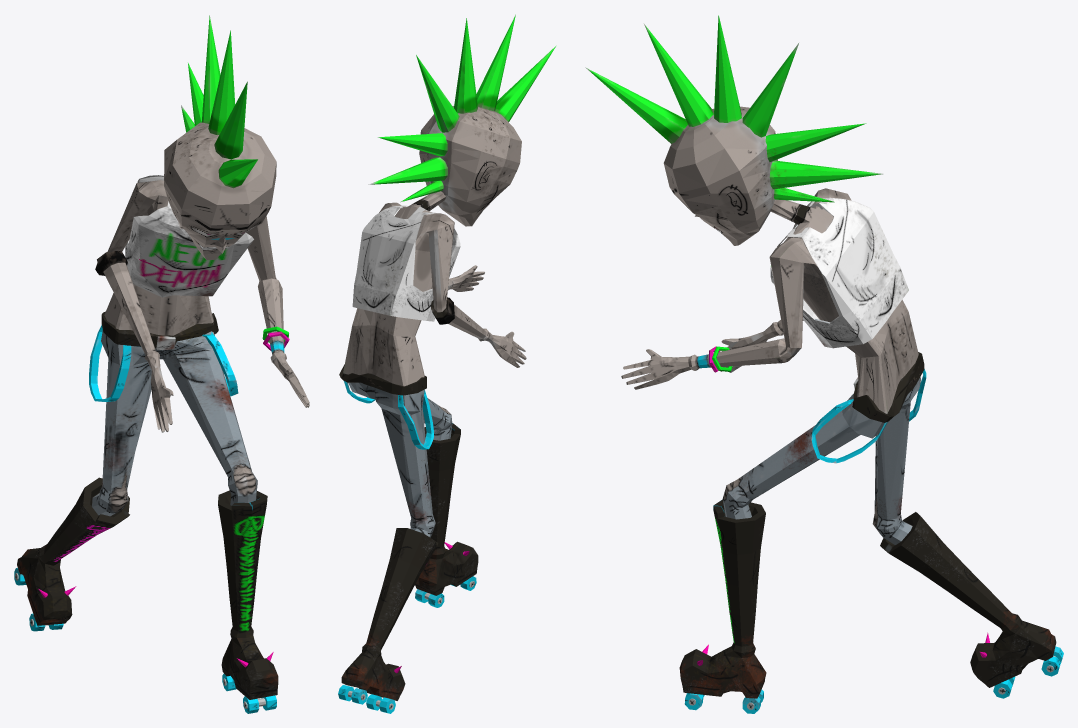
Rendered from punkAnimation_000005.obj.
3 views of the same model, side by side, from view 1: azimuth 30°, elevation 25°; view 2: azimuth 150°, elevation 25°; view 3: azimuth 270°, elevation 25° (orthographic). The views are drawn at different scales.
Parts seen in each view (by area): view 1: Cube.004_Cube.003; view 2: Cube.004_Cube.003; view 3: Cube.004_Cube.003.
Boxes of the visible parts, x1,y1,x2,y2 form: Cube.004_Cube.003: (14,15,309,713); Cube.004_Cube.003: (338,14,556,713); Cube.004_Cube.003: (585,15,1063,713).
Bounding box in the file's own units: 1.53 × 6.77 × 4.2.
